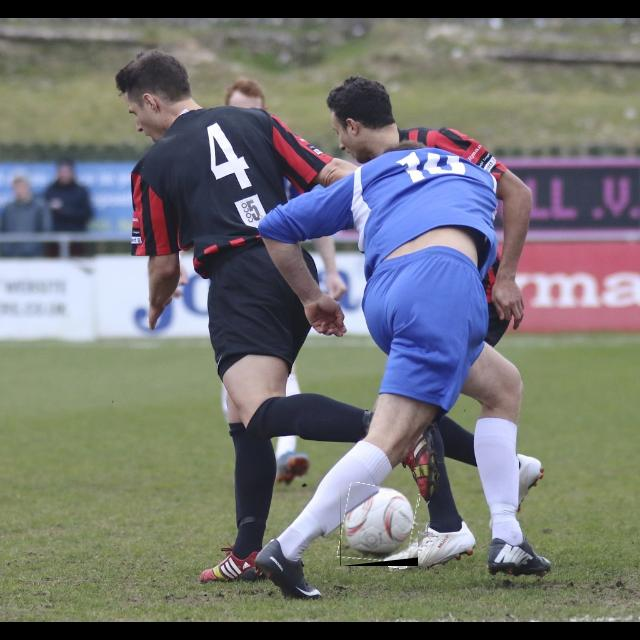Football: (340, 486, 418, 566)
